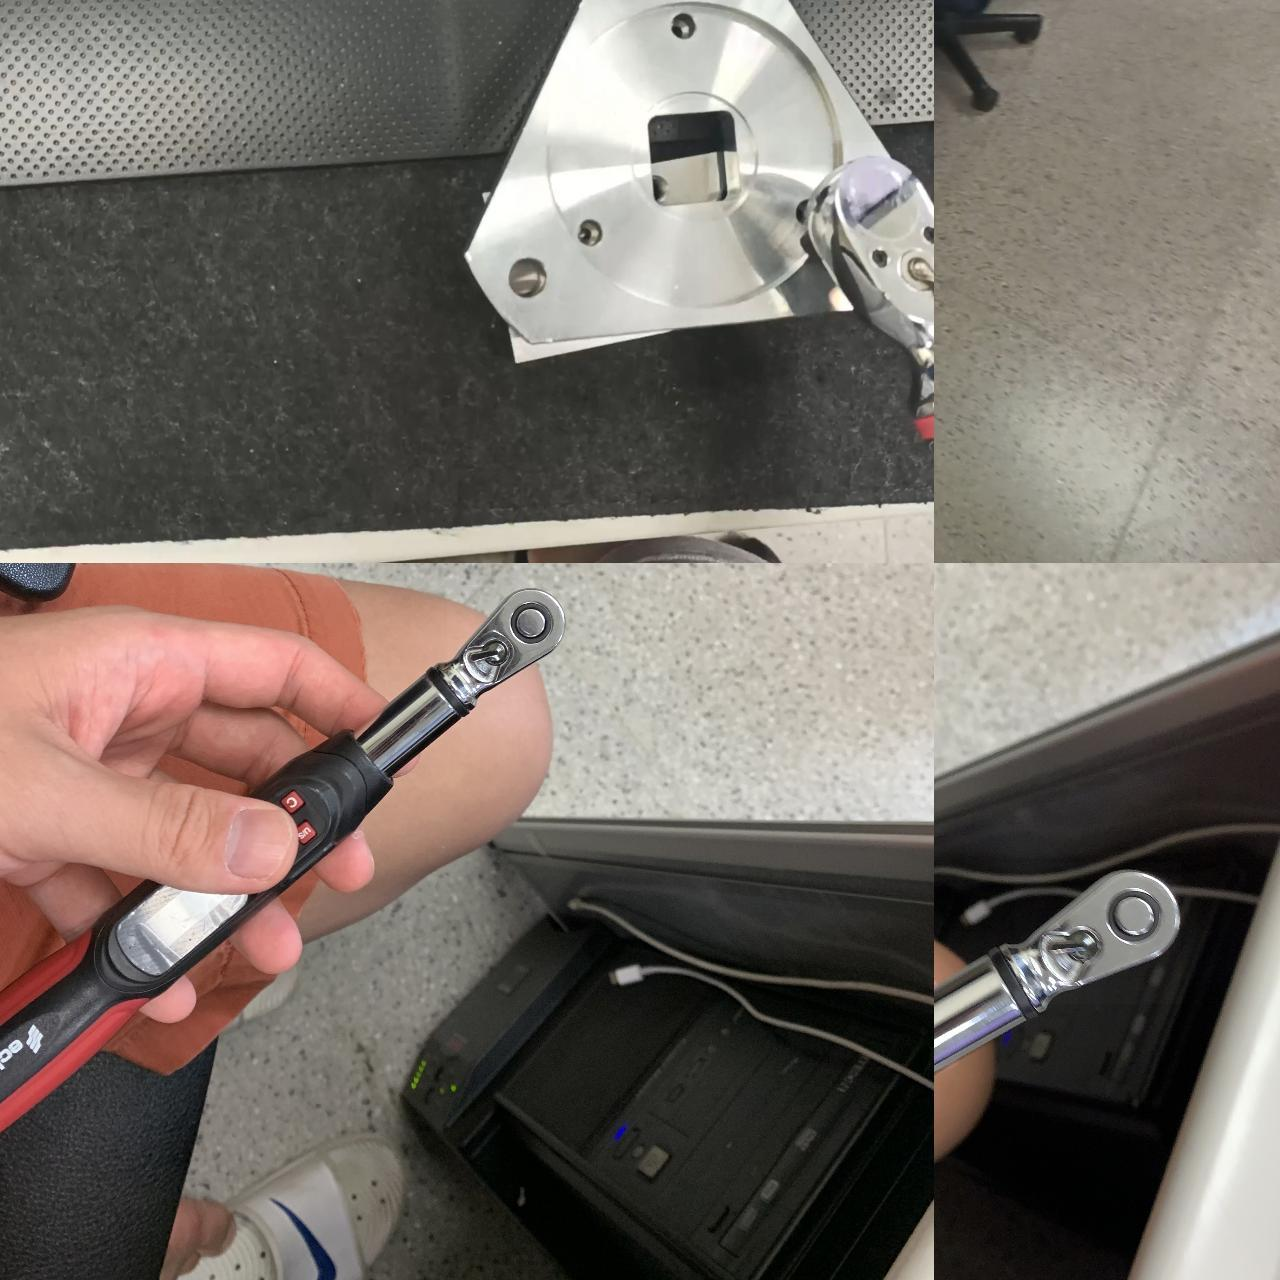Tool: (798, 142, 934, 416), (1015, 862, 1182, 1005), (447, 585, 565, 699)
